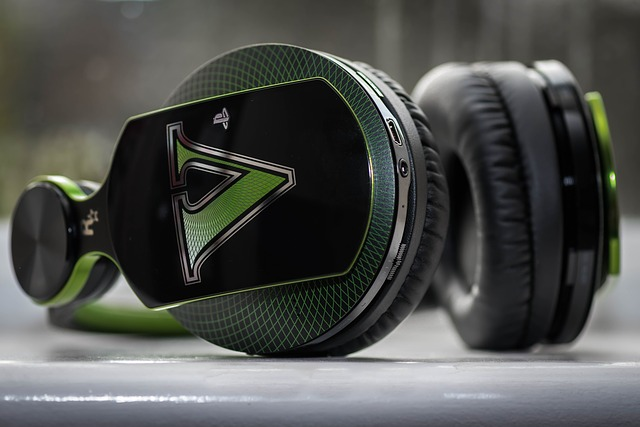headphones: (10, 44, 621, 359)
